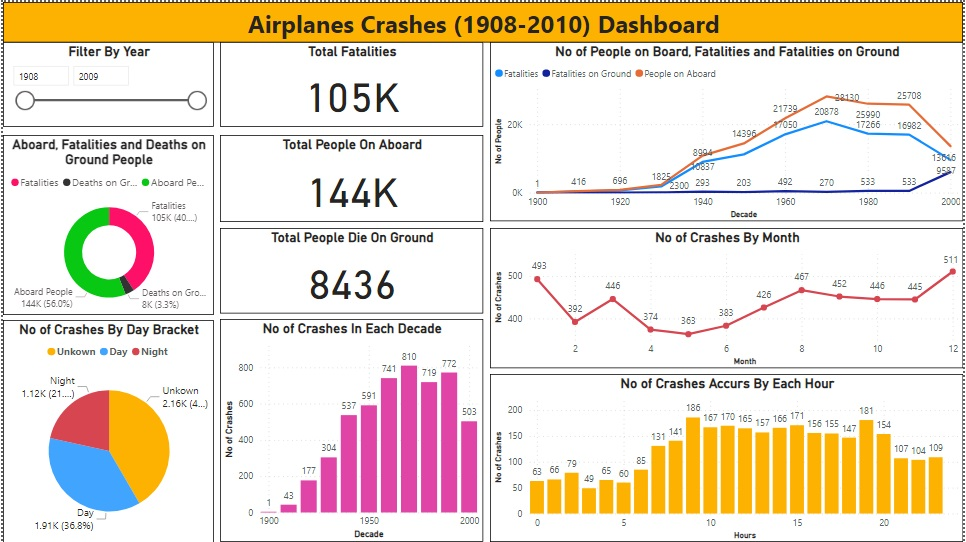

What the dashboard file says about the page in this screenshot:
{"tool":"powerbi","page":{"name":"Airplane Crash Report","canvas":[1280,720],"ordinal":0},"visuals":[{"type":"textbox","box":[0,0,1280,53.8],"z":0},{"type":"card","title":"Total Fatalities","fields":{"Values":["Sum(airplane_crashes_and_fatalities_since_1908.fatalities)"]},"box":[288.9,53.3,351.1,113.3],"z":1000},{"type":"card","title":"Total People On Aboard","fields":{"Values":["Sum(airplane_crashes_and_fatalities_since_1908.aboard)"]},"box":[288.9,176.7,351.1,115.6],"z":2000},{"type":"card","title":"Total People Die On Ground","fields":{"Values":["Sum(airplane_crashes_and_fatalities_since_1908.ground)"]},"box":[288.9,301.1,351.1,114.4],"z":3000},{"type":"clusteredColumnChart","title":"No of Crashes In Each Decade","fields":{"Category":["airplane_crashes_and_fatalities_since_1908.YearBracket"],"Y":["CountNonNull(airplane_crashes_and_fatalities_since_1908.YearBracket)"]},"box":[289.2,423.1,350.8,296.9],"z":4000},{"type":"pieChart","title":"No of Crashes By Day Bracket","fields":{"Category":["airplane_crashes_and_fatalities_since_1908.DayOrNight"],"Y":["CountNonNull(airplane_crashes_and_fatalities_since_1908.DayOrNight)"]},"box":[0,423.3,281.1,296.7],"z":5000},{"type":"lineChart","title":"No of People on Board, Fatalities and Fatalities on Ground","fields":{"Category":["airplane_crashes_and_fatalities_since_1908.YearBracket"],"Y":["Sum(airplane_crashes_and_fatalities_since_1908.fatalities)","Sum(airplane_crashes_and_fatalities_since_1908.ground)","Sum(airplane_crashes_and_fatalities_since_1908.aboard)"]},"box":[648.9,53.3,631.1,238.9],"z":6000},{"type":"lineChart","title":"No of Crashes By Month","fields":{"Category":["airplane_crashes_and_fatalities_since_1908.Month"],"Y":["CountNonNull(airplane_crashes_and_fatalities_since_1908.Month)"]},"box":[648.9,301.1,631.1,186.7],"z":7000},{"type":"clusteredColumnChart","title":"No of Crashes Accurs By Each Hour","fields":{"Category":["airplane_crashes_and_fatalities_since_1908.Hour"],"Y":["CountNonNull(airplane_crashes_and_fatalities_since_1908.Hour)"]},"box":[648.9,495.6,631.1,224.4],"z":8000},{"type":"slicer","title":"Filter By Year","fields":{"Values":["airplane_crashes_and_fatalities_since_1908.Year"]},"box":[0,53.3,281.1,113.3],"z":9000},{"type":"donutChart","title":"Aboard, Fatalities and Deaths on Ground People","fields":{"Y":["Sum(airplane_crashes_and_fatalities_since_1908.fatalities)","Sum(airplane_crashes_and_fatalities_since_1908.ground)","Sum(airplane_crashes_and_fatalities_since_1908.aboard)"]},"box":[0,176.7,281.1,240],"z":10000}]}

Visuals, with their boxes in screenshot pixels (x1, y1, x2, y2), scaled from the page's 1280x720 canvas onto the 966x542 screenshot:
textbox: region(0, 0, 965, 40)
"Total Fatalities" card: region(218, 40, 483, 125)
"Total People On Aboard" card: region(218, 133, 483, 220)
"Total People Die On Ground" card: region(218, 227, 483, 313)
"No of Crashes In Each Decade" clusteredColumnChart: region(218, 319, 483, 541)
"No of Crashes By Day Bracket" pieChart: region(0, 319, 212, 541)
"No of People on Board, Fatalities and Fatalities on Ground" lineChart: region(490, 40, 965, 220)
"No of Crashes By Month" lineChart: region(490, 227, 965, 367)
"No of Crashes Accurs By Each Hour" clusteredColumnChart: region(490, 373, 965, 541)
"Filter By Year" slicer: region(0, 40, 212, 125)
"Aboard, Fatalities and Deaths on Ground People" donutChart: region(0, 133, 212, 314)
